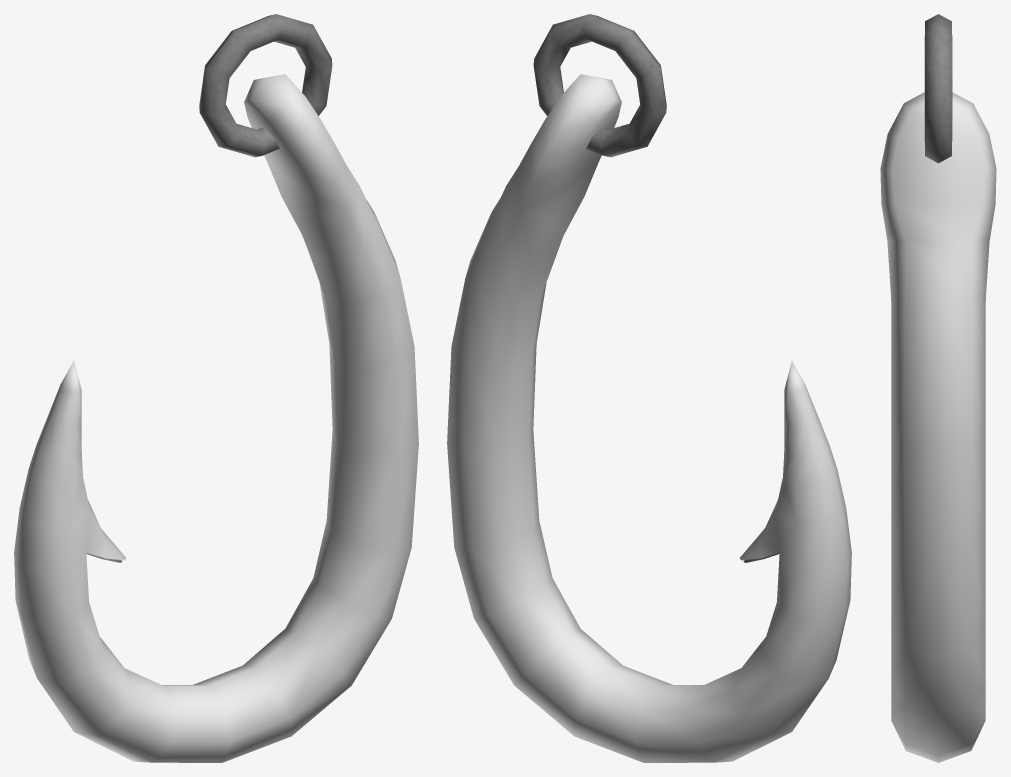
File: fishhook.fbx
The picture shows the model from 3 angles, left to right: view 1: azimuth 30°, elevation 25°; view 2: azimuth 150°, elevation 25°; view 3: azimuth 270°, elevation 25°; orthographic projection.
Visible parts, largest first — view 1: _0_0_node.001, _2_0_node; view 2: _0_0_node.001, _2_0_node; view 3: _0_0_node.001, _2_0_node.
Part boxes in pixels (x1,y1,x2,y2): _0_0_node.001: (14,74,418,762); _2_0_node: (199,14,332,157); _0_0_node.001: (447,74,851,762); _2_0_node: (533,14,666,157); _0_0_node.001: (880,92,996,762); _2_0_node: (924,14,952,163).
Size of the model in its own units: 2556 by 4528 by 640.
Materials: 2 (1 with a texture image).
